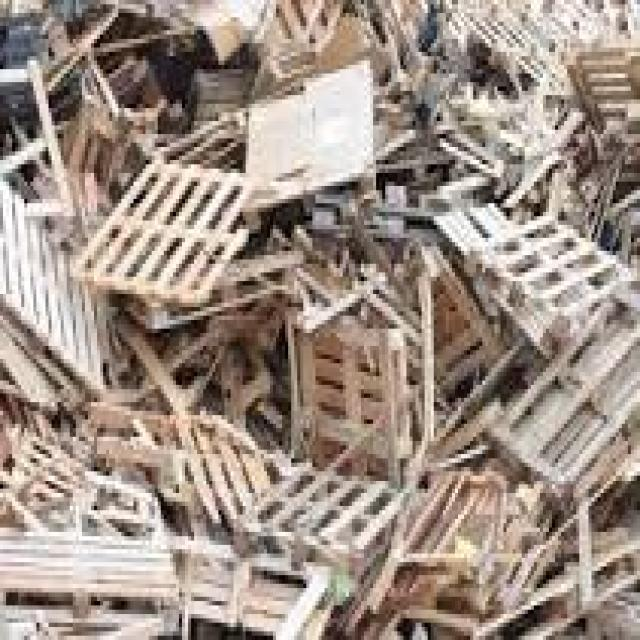Organik: (25, 48, 633, 617)
